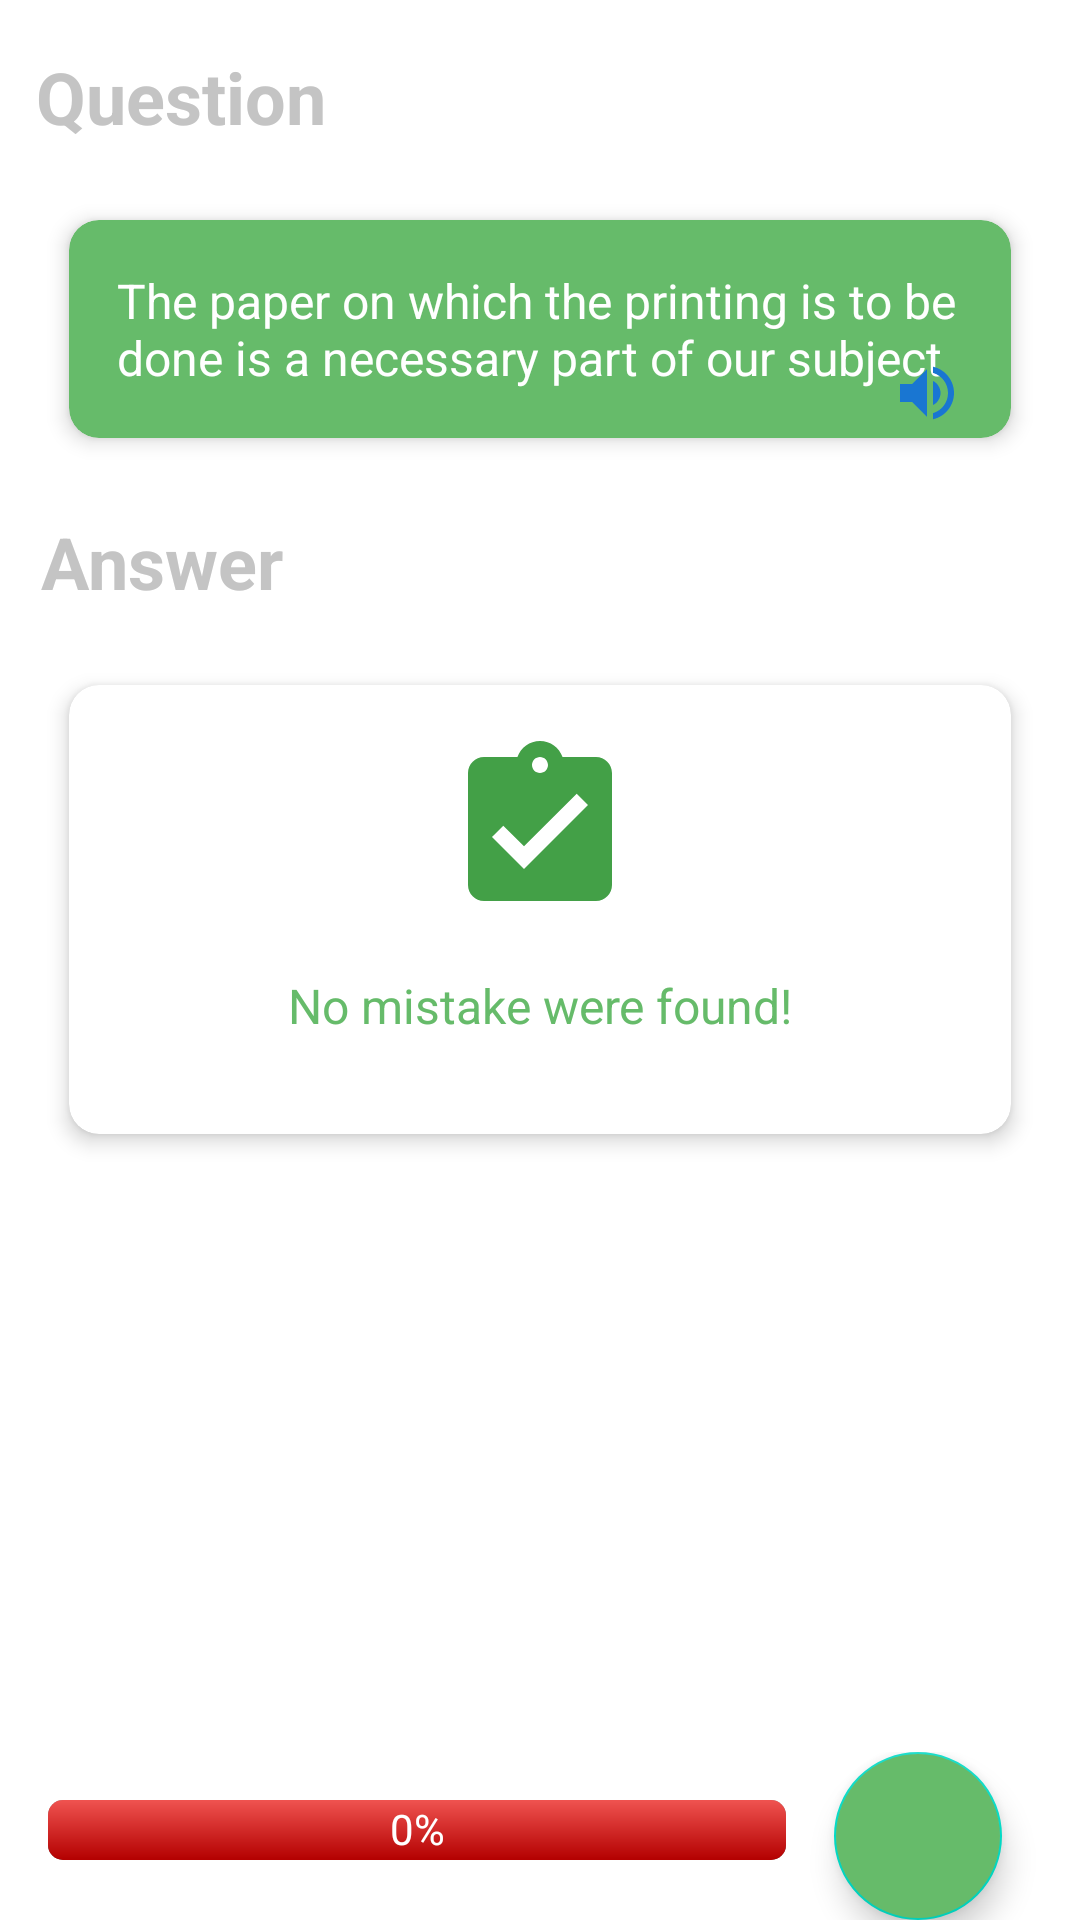

Where icons sit on this 1080px×1920px app screen, as {"left": x1, "top": y1, "right": x2, "bottom": y2}:
assignment: {"left": 468, "top": 741, "right": 612, "bottom": 901}
volume up: {"left": 891, "top": 357, "right": 954, "bottom": 419}
